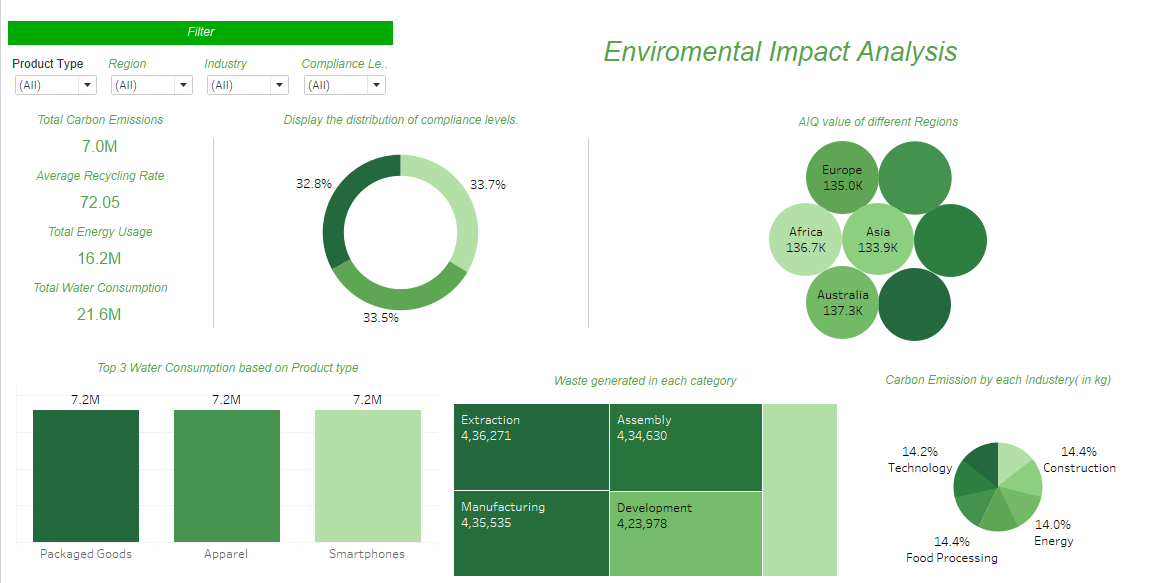

The dashboard page shown, as its layout file describes it:
{"tool":"tableau","page":{"name":"Dashboard 2","canvas":[1000,1000],"units":"permille","ordinal":1},"visuals":[{"type":"text","box":[353.2,20.6,642.4,138.7]},{"type":"worksheet","title":"Filter","mark":"Automatic","box":[2.6,29.1,340.3,54.8]},{"type":"filter","title":"Filter","param":"[federated.1uodc0x11wu55u1a72fyl1v5j2k6].[none:Product Type:nk]","box":[6.1,90.8,83.3,78.8]},{"type":"filter","title":"Filter","param":"[federated.1uodc0x11wu55u1a72fyl1v5j2k6].[none:Region:nk]","box":[89.4,90.8,83.3,78.8]},{"type":"filter","title":"Filter","param":"[federated.1uodc0x11wu55u1a72fyl1v5j2k6].[none:Industry:nk]","box":[172.7,90.8,83.3,78.8]},{"type":"filter","title":"Filter","param":"[federated.1uodc0x11wu55u1a72fyl1v5j2k6].[none:Compliance Level:nk]","box":[256.1,90.8,83.4,78.8]},{"type":"worksheet","title":"Total Carbon Emissions","mark":"Automatic","box":[3.5,179.8,164.5,95.9]},{"type":"worksheet","title":"Dounut chart","mark":"Pie","rows":["Calculation_1601592621298757632","Calculation_1601592621298757632"],"box":[183.6,186.6,325.5,375]},{"type":"worksheet","title":"Bubble chart","mark":"Circle","box":[550.6,190.1,417.3,393.8]},{"type":"worksheet","title":"Average Recycling Rate","mark":"Automatic","box":[3.5,275.7,164.5,95.9]},{"type":"worksheet","title":"Total Energy Usage","mark":"Automatic","box":[3.5,371.6,164.5,95.9]},{"type":"worksheet","title":"Total water consumption","mark":"Automatic","box":[3.5,467.5,164.5,95.9]},{"type":"worksheet","title":"Histogram","mark":"Automatic","rows":["Water Consumption (liters)"],"cols":["Product Type"],"box":[13,611.3,366.2,385.3]},{"type":"worksheet","title":"Pie chart","mark":"Pie","box":[732.5,631.9,261.5,354.4]},{"type":"worksheet","title":"Tree map","mark":"Automatic","box":[387.9,633.6,339.4,361.3]}]}

Visuals, with their boxes on the dashboard's canvas, which has no fixed pixel size, in thousandths of its width and height (x1, y1, x2, y2). These are canvas units, not pixel positions in the 1156x583 screenshot, which may show the page scaled, cropped or inside an application window:
text: [left=353, top=21, right=996, bottom=159]
"Filter" worksheet: [left=3, top=29, right=343, bottom=84]
"Filter" filter: [left=6, top=91, right=89, bottom=170]
"Filter" filter: [left=89, top=91, right=173, bottom=170]
"Filter" filter: [left=173, top=91, right=256, bottom=170]
"Filter" filter: [left=256, top=91, right=340, bottom=170]
"Total Carbon Emissions" worksheet: [left=4, top=180, right=168, bottom=276]
"Dounut chart" worksheet (Pie marks): [left=184, top=187, right=509, bottom=562]
"Bubble chart" worksheet (Circle marks): [left=551, top=190, right=968, bottom=584]
"Average Recycling Rate" worksheet: [left=4, top=276, right=168, bottom=372]
"Total Energy Usage" worksheet: [left=4, top=372, right=168, bottom=468]
"Total water consumption" worksheet: [left=4, top=468, right=168, bottom=563]
"Histogram" worksheet: [left=13, top=611, right=379, bottom=997]
"Pie chart" worksheet (Pie marks): [left=732, top=632, right=994, bottom=986]
"Tree map" worksheet: [left=388, top=634, right=727, bottom=995]
